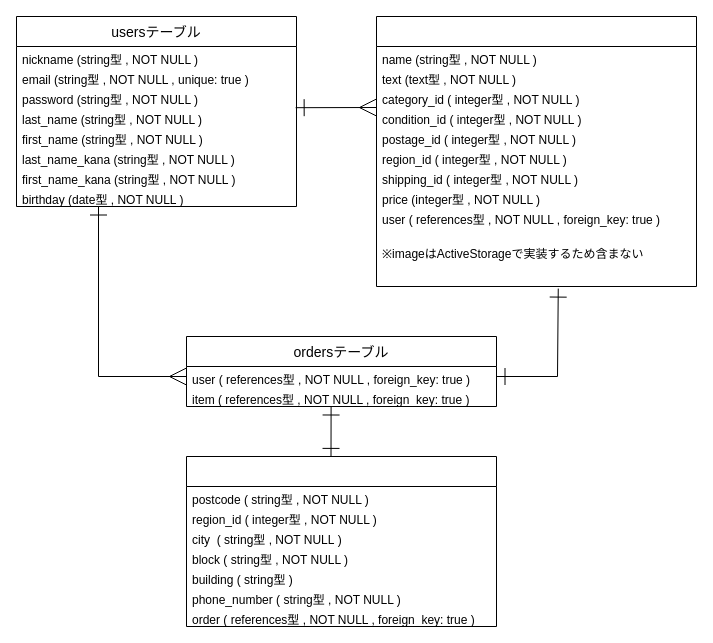
Some shapes in this 713 by 643 pixel diagram are drawn without their labels. The shapes that lost their labels are listed below. From the top down, each one's box as (x1, y1, x2, y2) in pixels, then its label:
(376, 16, 696, 286): itemsテーブル
(186, 456, 496, 626): addressesテーブル
